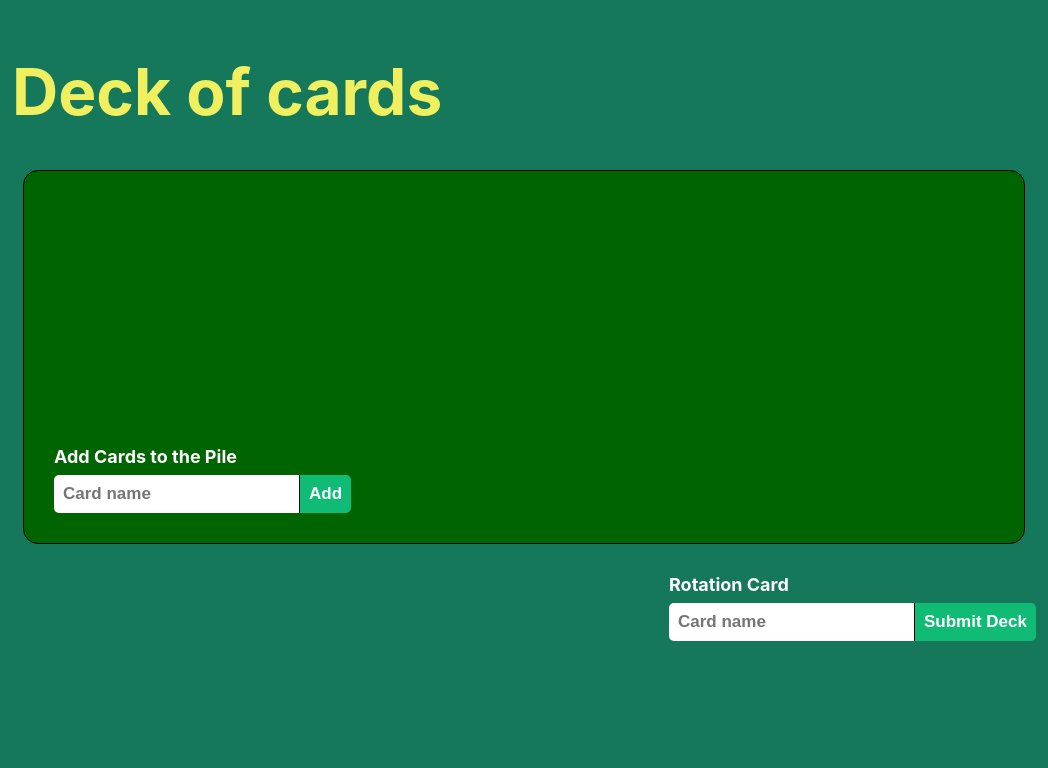
Test: prevents to add more than the maximum amount of cards
In the field labelled "Add Cards to the Pile": [176, 494] box [54,475,299,513], type "3s"
Click the button "Add": [325, 494] box [299,475,351,513]
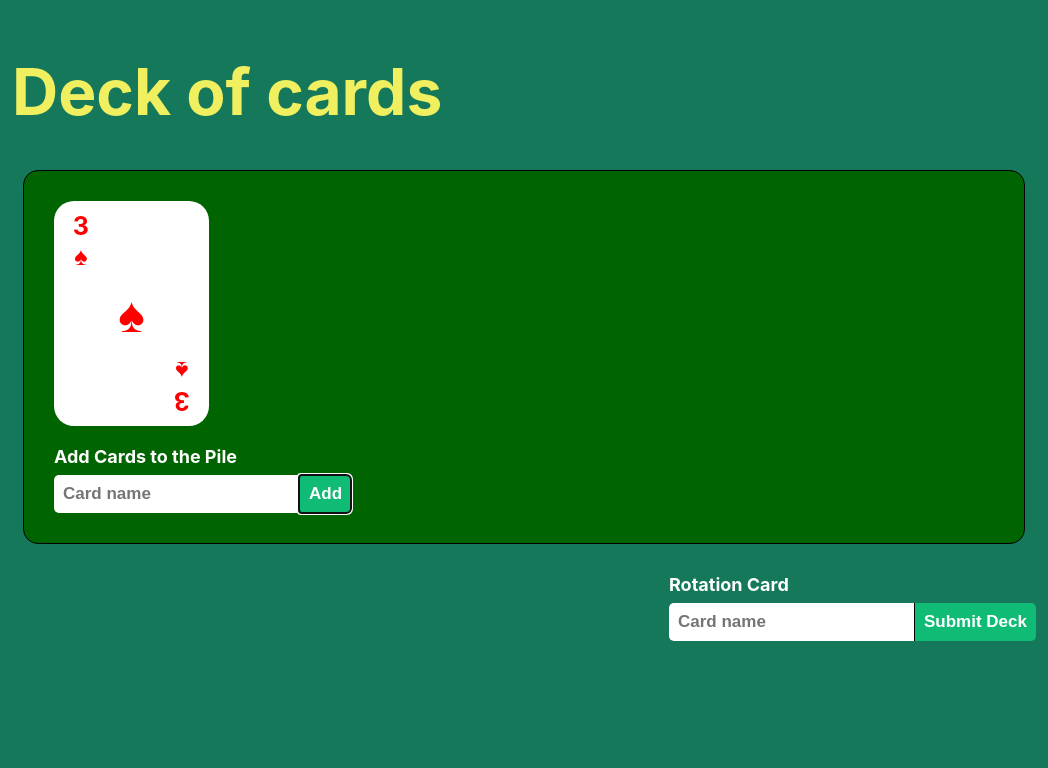
In the field labelled "Add Cards to the Pile": [176, 494] box [54,475,299,513], type "3s"
Click the button "Add": [325, 494] box [299,475,351,513]
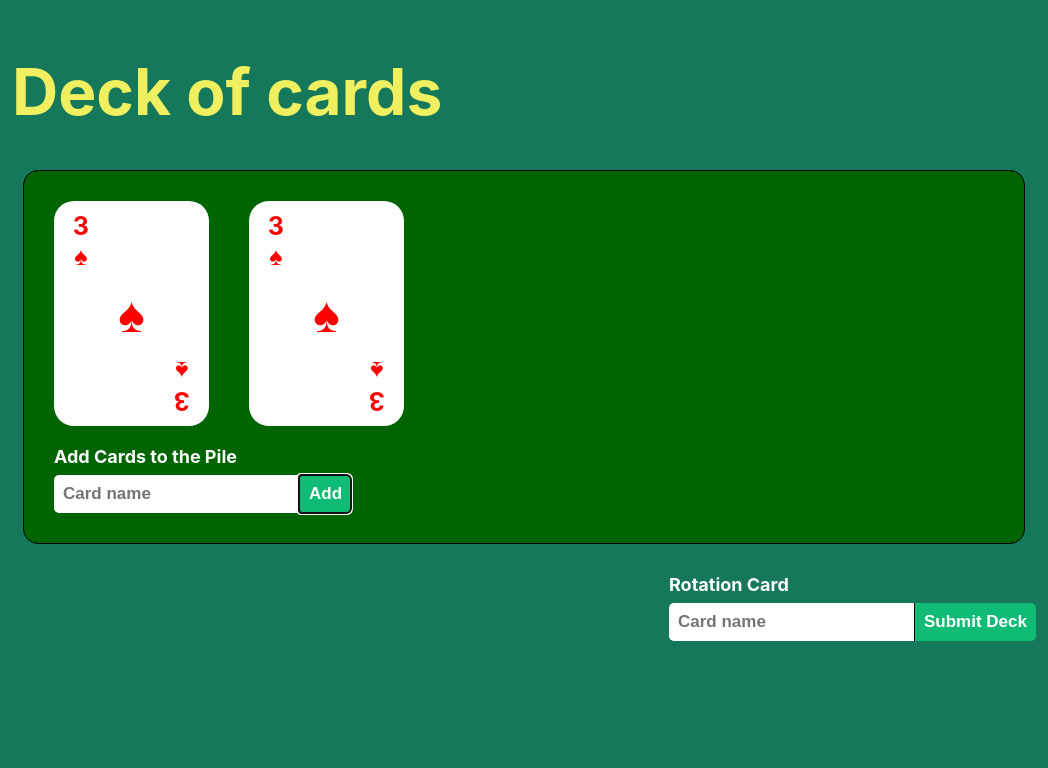
In the field labelled "Add Cards to the Pile": [176, 494] box [54,475,299,513], type "3s"
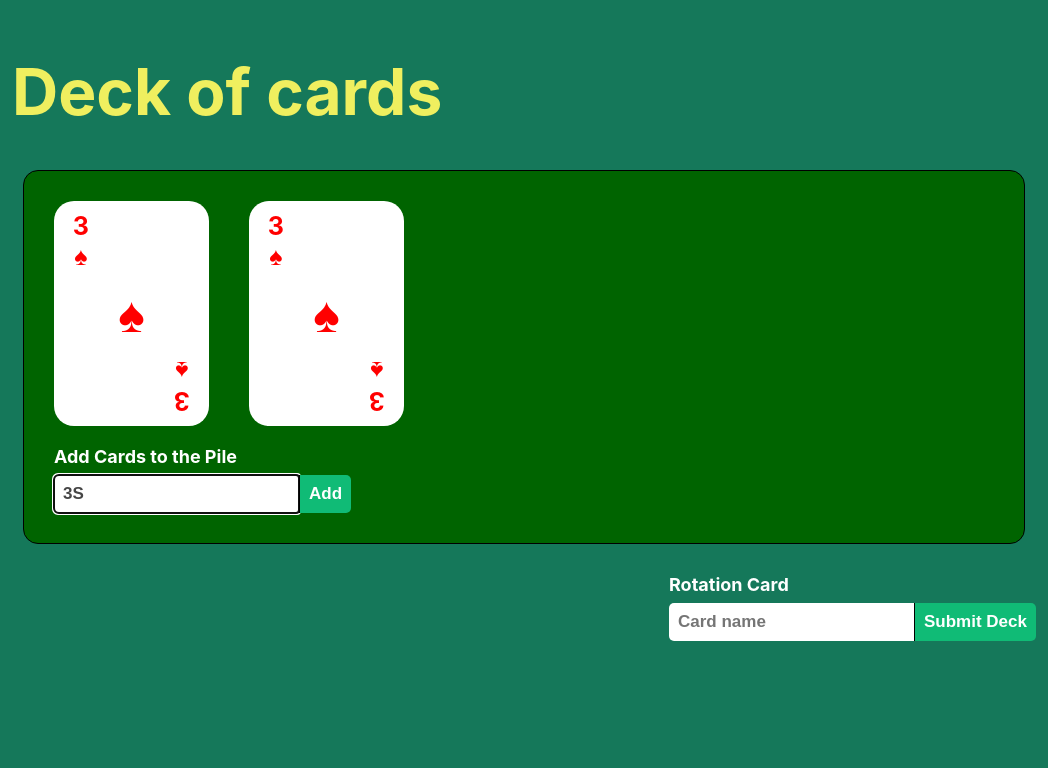
Click the button "Add": [325, 494] box [299,475,351,513]
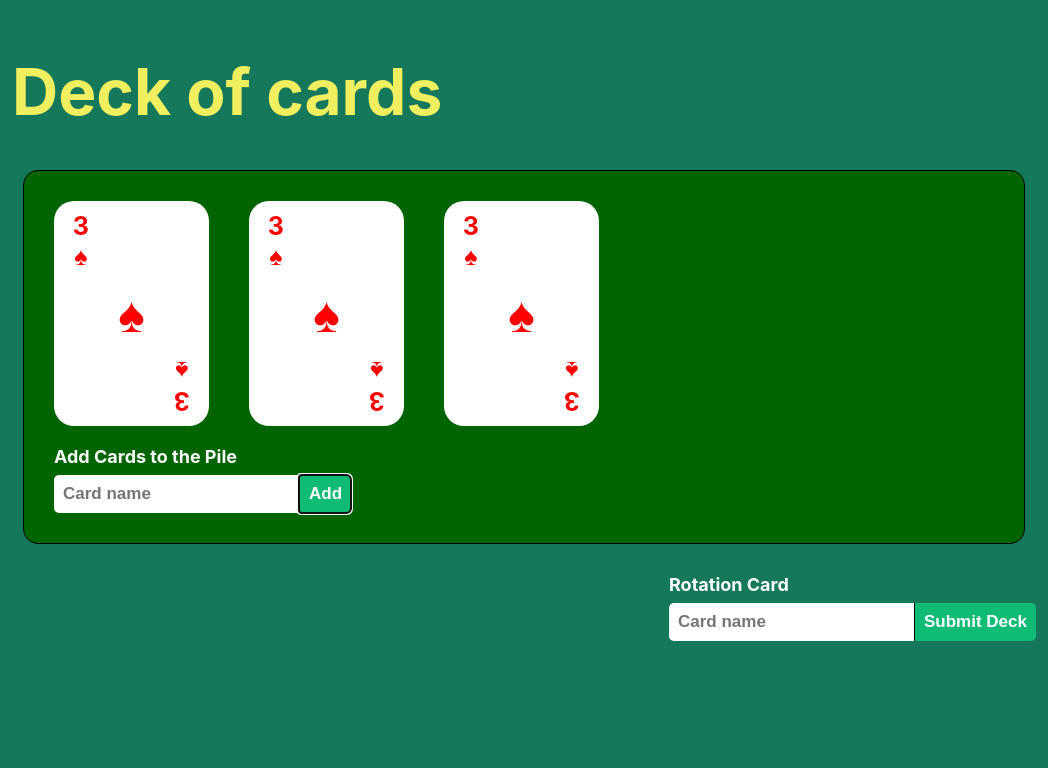
In the field labelled "Add Cards to the Pile": [176, 494] box [54,475,299,513], type "3s"
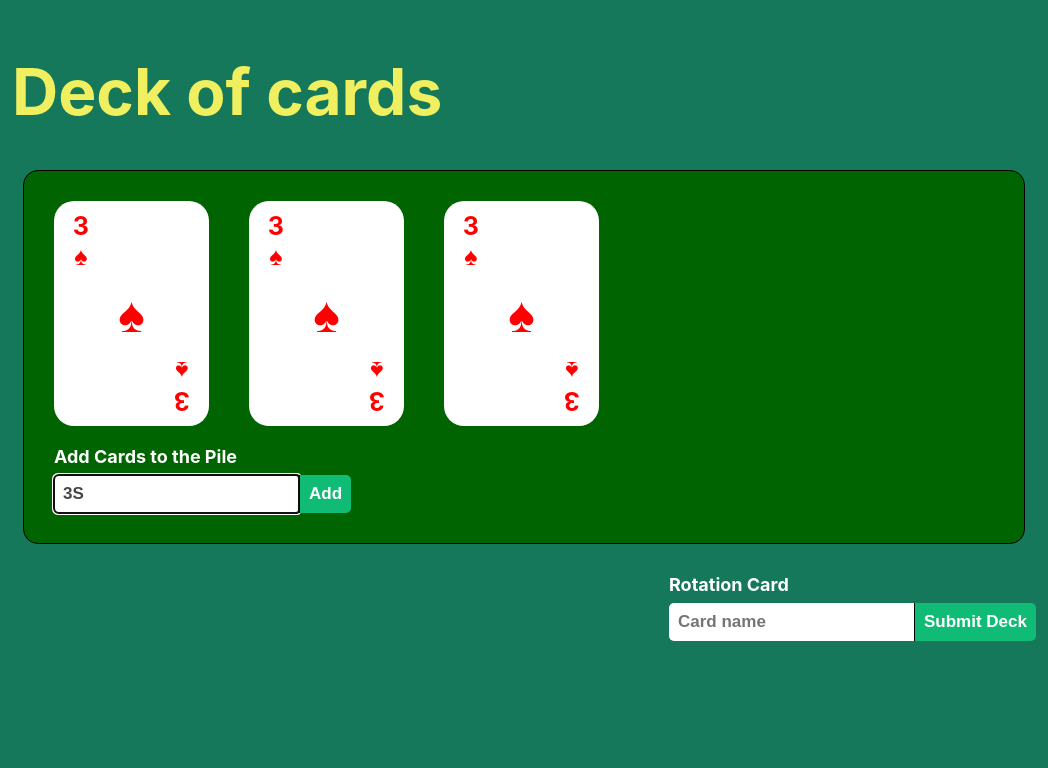
Click the button "Add": [325, 494] box [299,475,351,513]
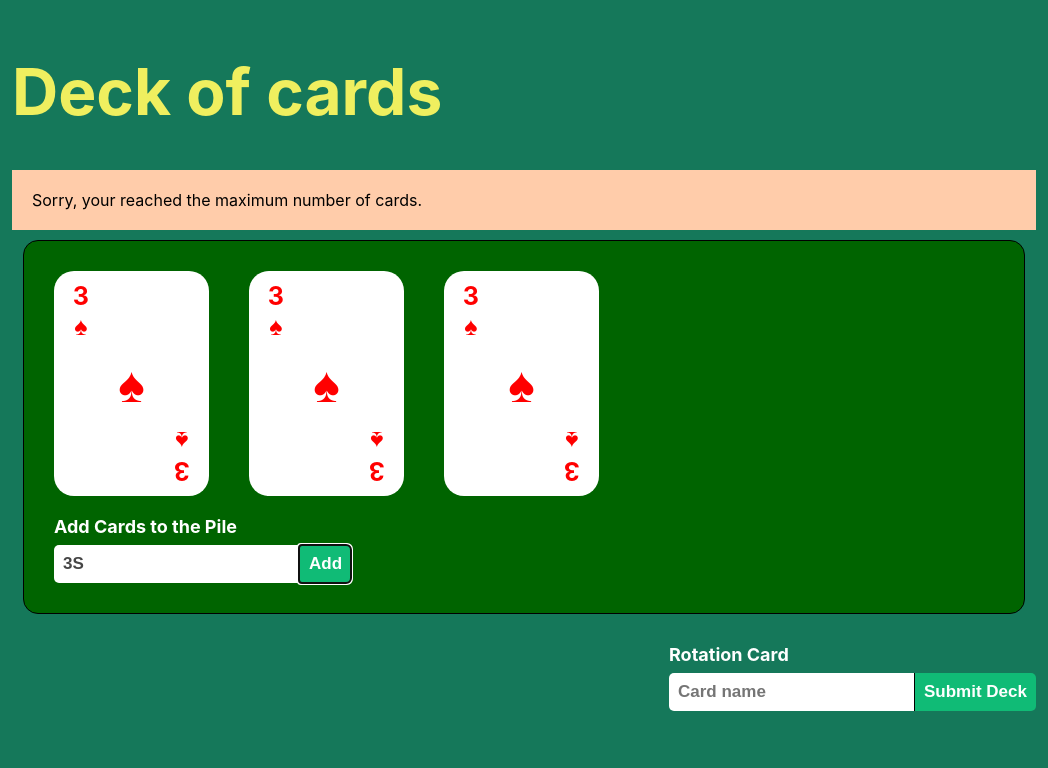
Now the number of elements titled "3 SPADES" is 3, box [54,271,209,496]; [249,271,404,496]; [444,271,599,496]
Now the text "Sorry, your reached the maximum number of cards." is shown, box [12,170,1036,230]
